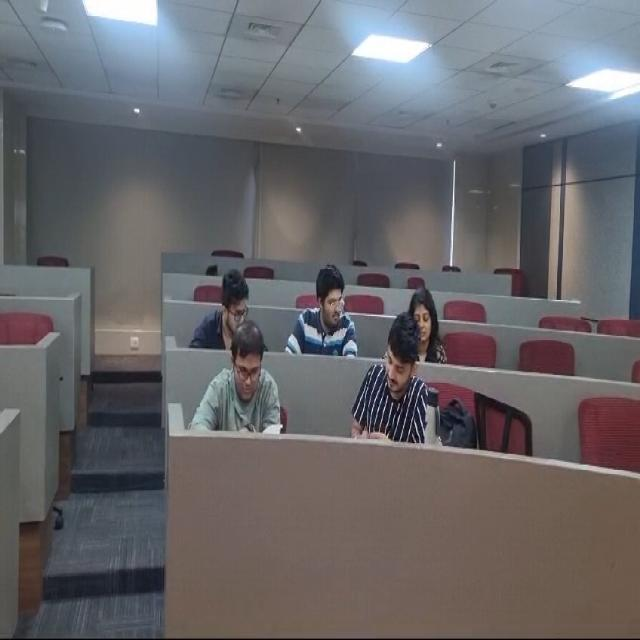cheating: (357, 320, 428, 445), (292, 247, 362, 360), (202, 258, 256, 340), (407, 294, 451, 362)
non-cheating: (216, 318, 286, 438)
